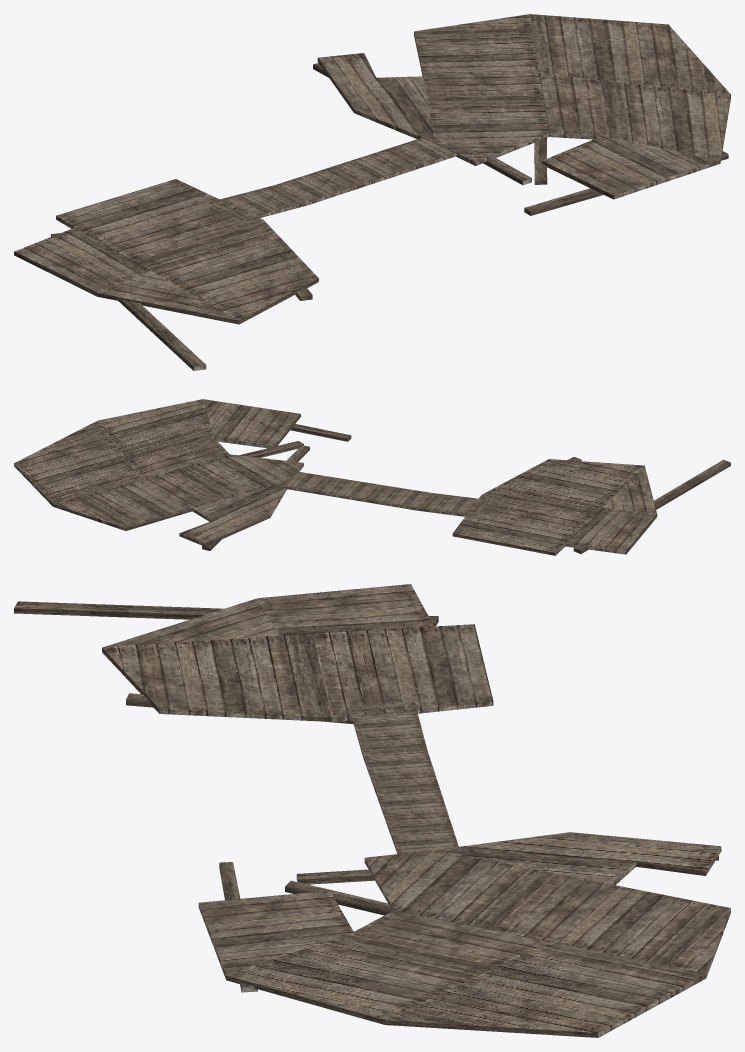
The model's file is d_sg_shouyou_dimian03_qt.FBX.
3 renders of one model, top to bottom at view 1: azimuth 30°, elevation 25°; view 2: azimuth 150°, elevation 25°; view 3: azimuth 270°, elevation 25°, orthographic. The views are drawn at different scales.
Visible parts, largest first — view 1: d_sg_shouyou_chuan01_qt; view 2: d_sg_shouyou_chuan01_qt; view 3: d_sg_shouyou_chuan01_qt.
Boxes of the visible parts, bbox=[...] form: d_sg_shouyou_chuan01_qt: bbox=[14, 14, 730, 370]; d_sg_shouyou_chuan01_qt: bbox=[14, 399, 730, 555]; d_sg_shouyou_chuan01_qt: bbox=[14, 584, 730, 1037].
Bounding box in the file's own units: 5111 × 104 × 3510.
